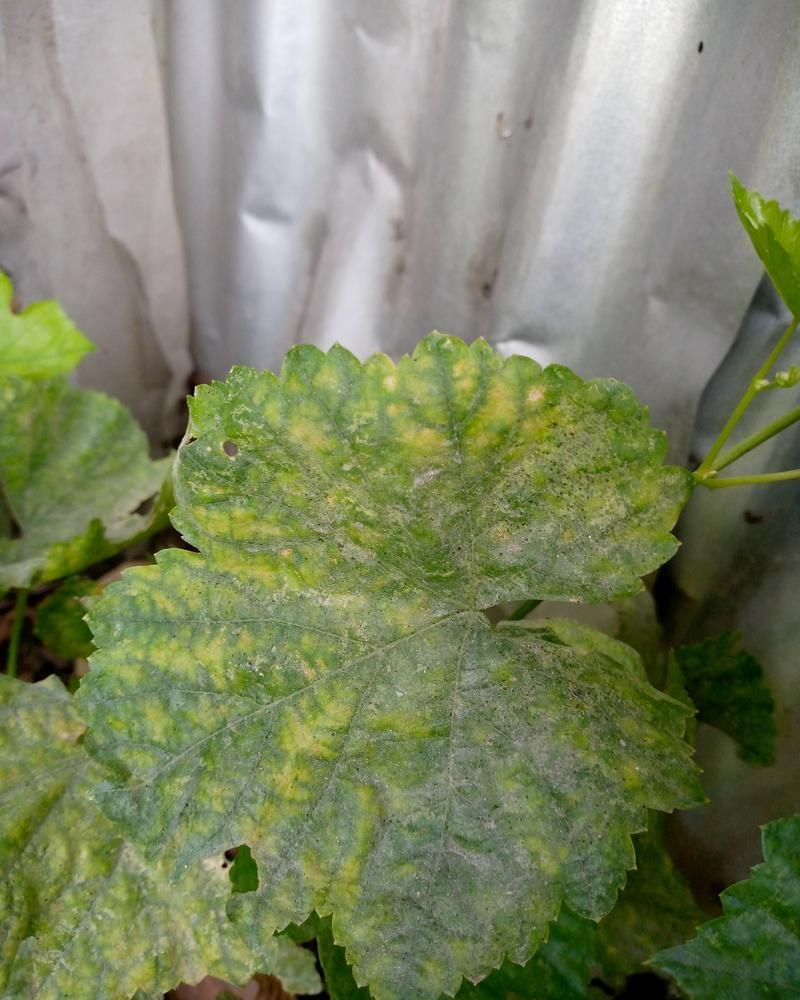Powdery-Mildew: (178, 592, 385, 799), (35, 840, 215, 990), (380, 364, 547, 470), (258, 394, 388, 523), (175, 827, 238, 890)
